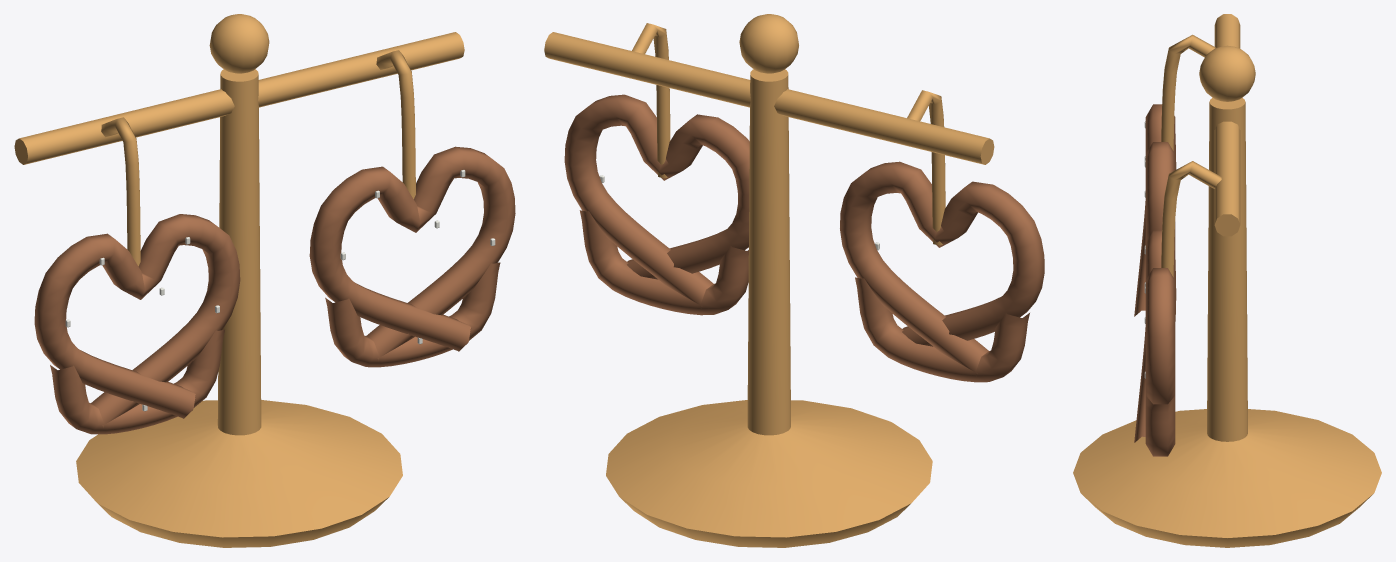
The model's file is storybook-christmas-market-hanging-pretzel-stand-537d167f__19723.glb.
The picture shows the model from 3 angles, left to right: view 1: azimuth 30°, elevation 25°; view 2: azimuth 150°, elevation 25°; view 3: azimuth 270°, elevation 25°; orthographic projection. The views are drawn at different scales.
Parts seen in each view (by area): view 1: hanging-pretzel-stand; view 2: hanging-pretzel-stand; view 3: hanging-pretzel-stand.
Boxes of the visible parts, x1=… form: hanging-pretzel-stand: x1=14, y1=14, x2=515, y2=547; hanging-pretzel-stand: x1=544, y1=14, x2=1044, y2=547; hanging-pretzel-stand: x1=1073, y1=14, x2=1381, y2=547.
Bounding box in the file's own units: 0.9964 × 0.945 × 0.6.
